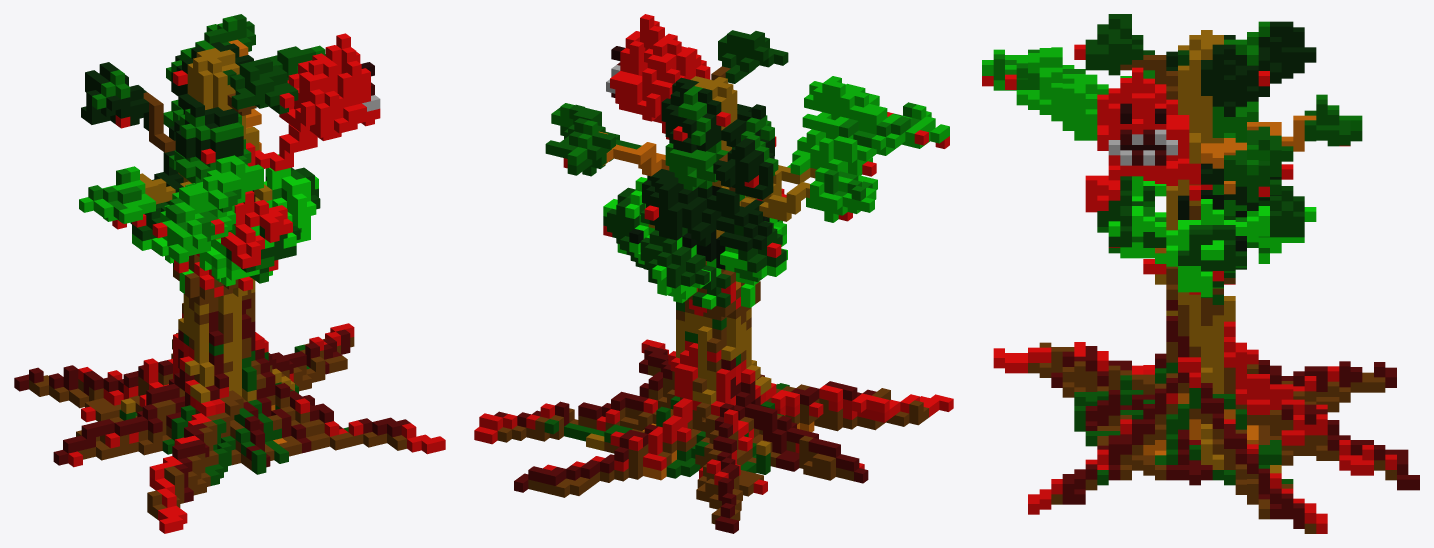
The model's file is Miguel_Angel_Cartagena_Herrera_fase_4.obj.
3 renders of one model, left to right at view 1: azimuth 30°, elevation 25°; view 2: azimuth 150°, elevation 25°; view 3: azimuth 270°, elevation 25°, orthographic. The views are drawn at different scales.
Visible parts, largest first — view 1: Miguel_Angel_Cartagena_Herrera_fase_4; view 2: Miguel_Angel_Cartagena_Herrera_fase_4; view 3: Miguel_Angel_Cartagena_Herrera_fase_4.
Part boxes in pixels (left/top/right/bottom): Miguel_Angel_Cartagena_Herrera_fase_4: left=14, top=14, right=445, bottom=533; Miguel_Angel_Cartagena_Herrera_fase_4: left=474, top=14, right=953, bottom=533; Miguel_Angel_Cartagena_Herrera_fase_4: left=982, top=14, right=1419, bottom=533.
Bounding box in the file's own units: 37 × 40 × 38.
1 material, 1 textured.
